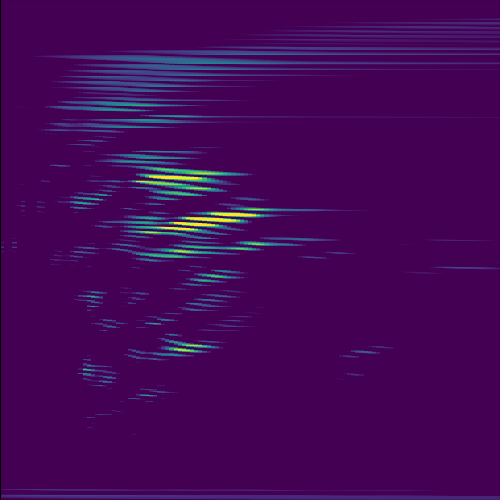semblance: (148, 205, 279, 239), (127, 165, 243, 196)
